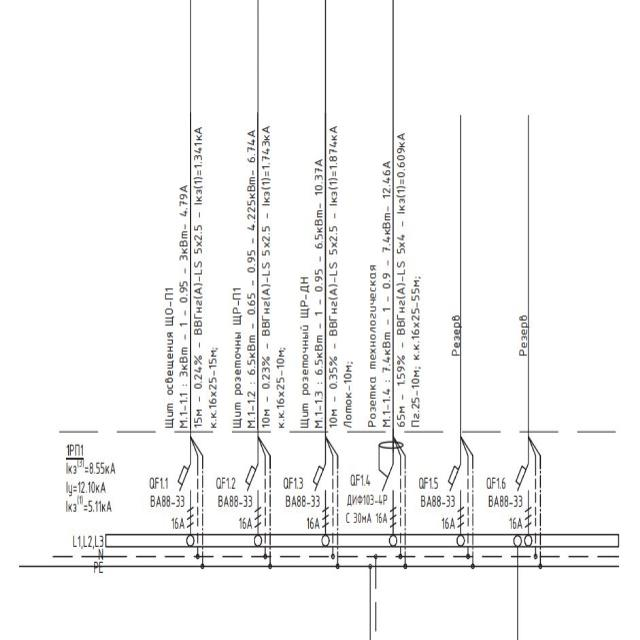-: (343, 494, 391, 528), (283, 492, 321, 532), (418, 492, 456, 532), (216, 491, 254, 531), (149, 490, 186, 530), (486, 492, 523, 532), (63, 439, 85, 460)
QF: (242, 462, 264, 531), (310, 462, 332, 530), (176, 462, 197, 531), (513, 461, 534, 530), (446, 462, 466, 531)
QFD: (376, 439, 404, 495)
